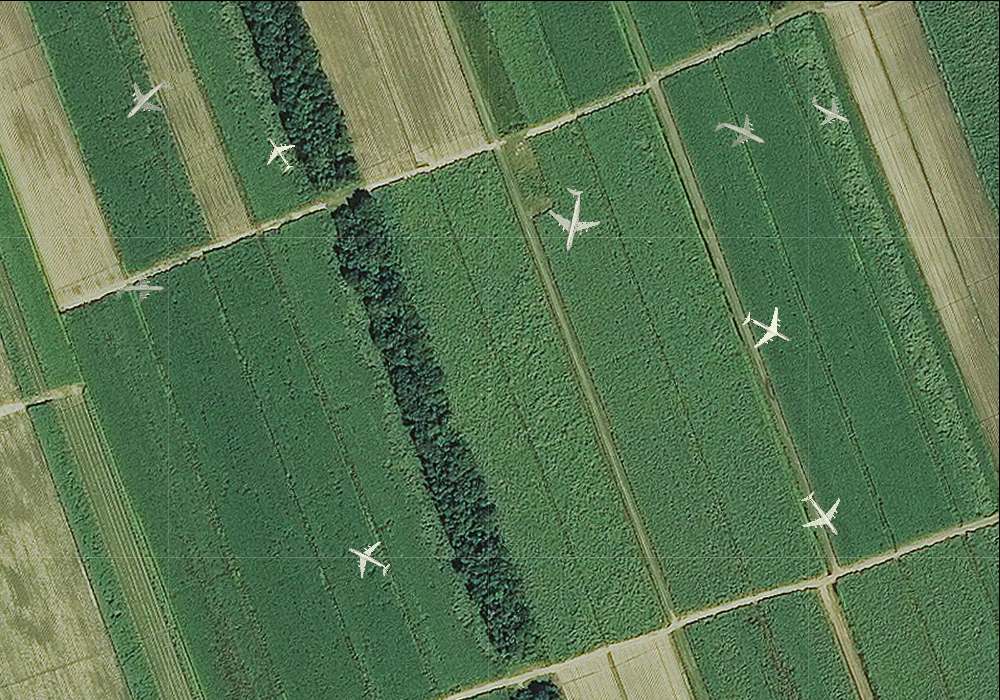plane: (111, 63, 184, 136), (536, 182, 607, 256), (788, 480, 856, 549), (733, 295, 801, 362), (707, 101, 773, 164), (338, 530, 398, 589), (802, 84, 858, 136), (253, 128, 304, 179), (114, 268, 164, 312)
